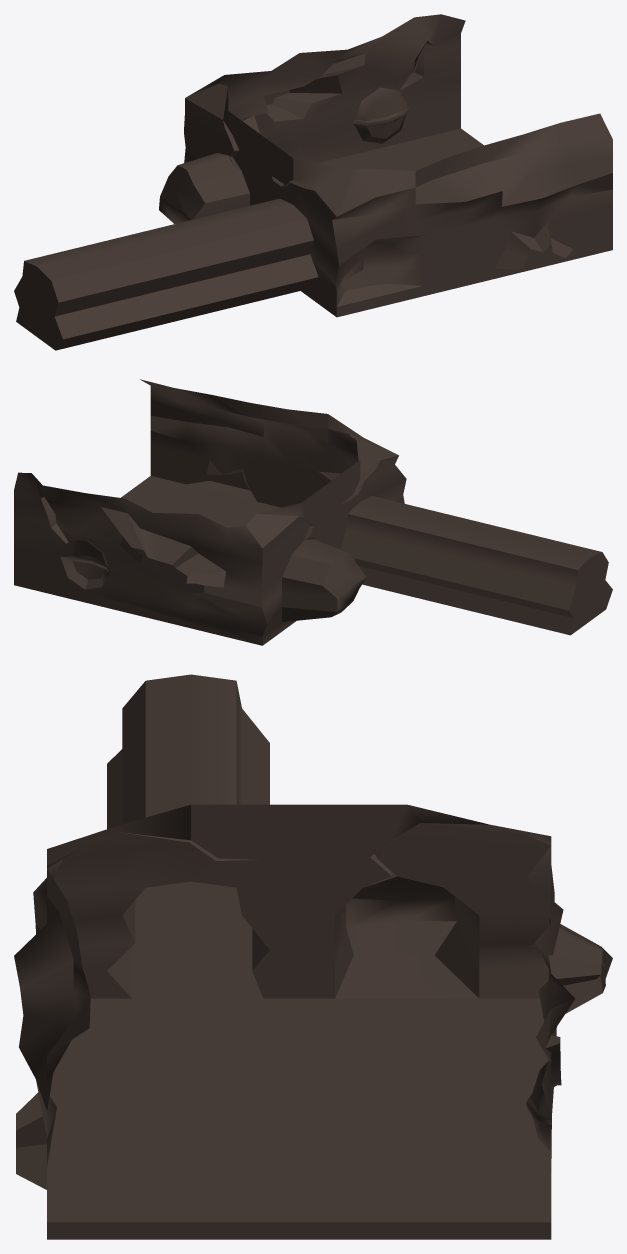
File: SM_WALL.fbx
The picture shows the model from 3 angles, top to bottom: view 1: azimuth 30°, elevation 25°; view 2: azimuth 150°, elevation 25°; view 3: azimuth 270°, elevation 25°; orthographic projection. The views are drawn at different scales.
Parts seen in each view (by area): view 1: Wall; view 2: Wall; view 3: Wall.
Boxes of the visible parts, x1=… form: Wall: x1=14, y1=14, x2=612, y2=350; Wall: x1=14, y1=379, x2=612, y2=645; Wall: x1=14, y1=674, x2=612, y2=1239.
Size of the model in its own units: 40.43 by 9.4 by 23.76.
